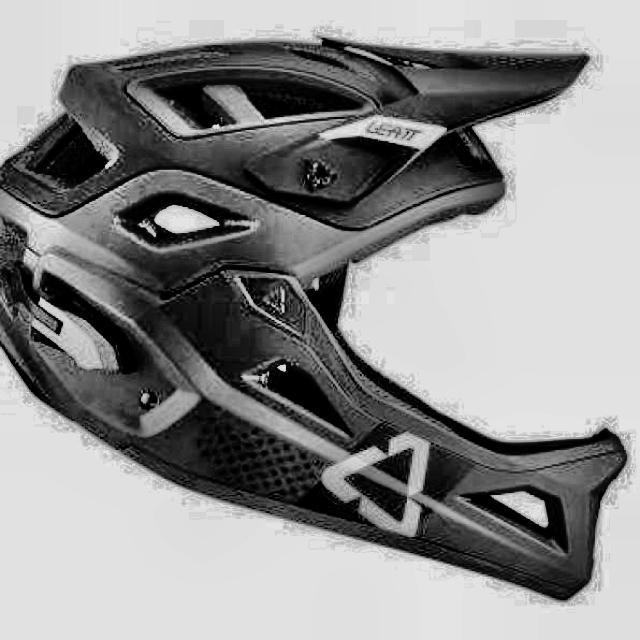Helmet: (0, 20, 631, 607)
